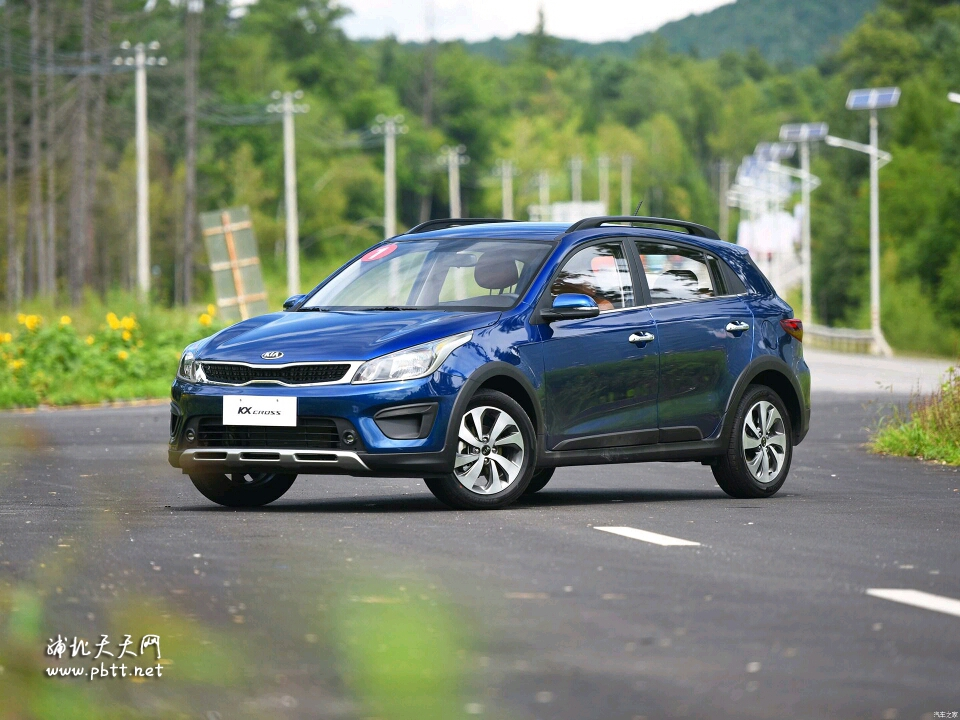car: (156, 199, 810, 494)
